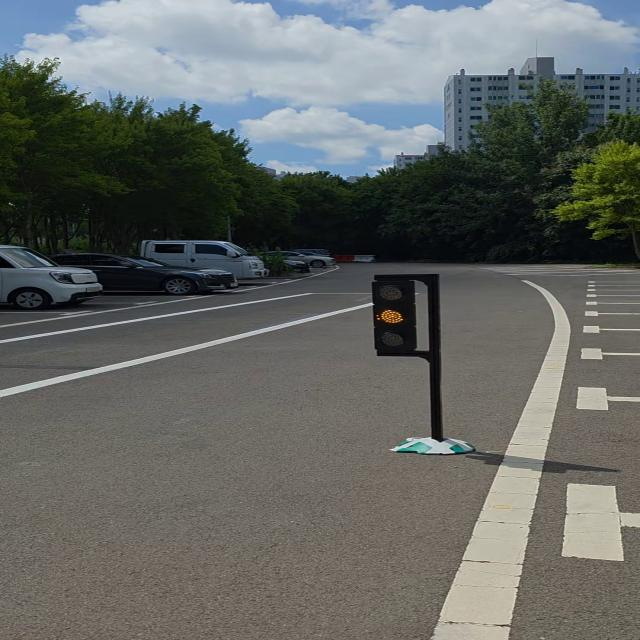yellow: (360, 275, 428, 360)
